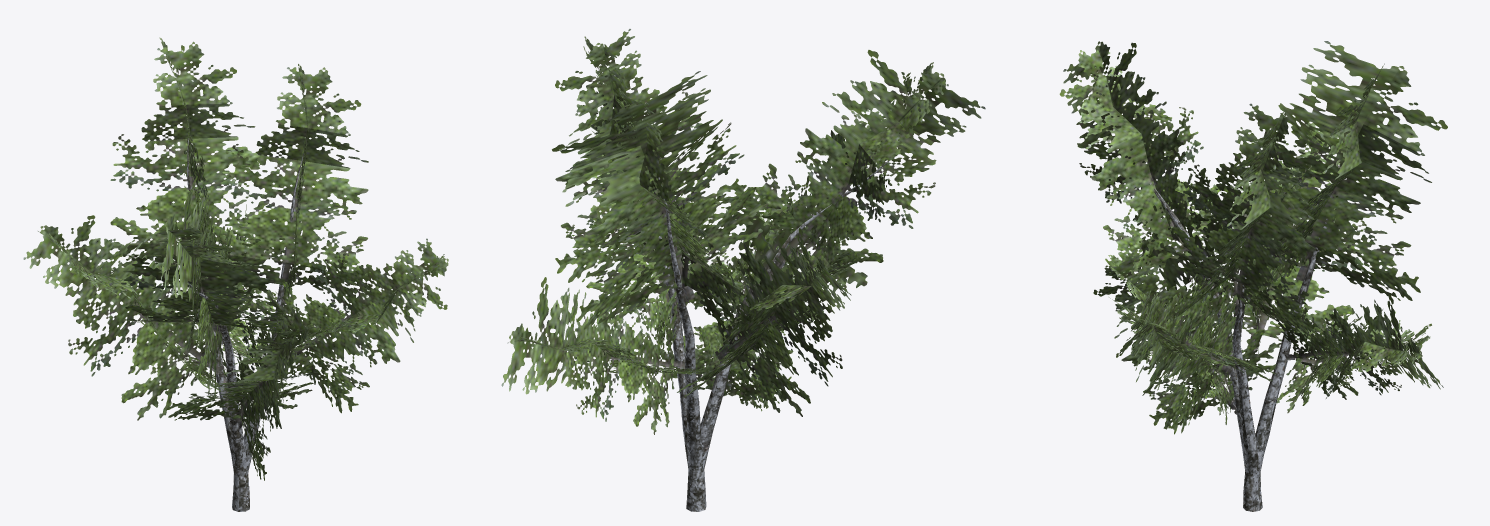
The model's file is SM_Tree_06.fbx.
3 views of the same model, side by side, from view 1: azimuth 30°, elevation 25°; view 2: azimuth 150°, elevation 25°; view 3: azimuth 270°, elevation 25° (orthographic). The views are drawn at different scales.
Parts seen in each view (by area): view 1: SM_Tree_06; view 2: SM_Tree_06; view 3: SM_Tree_06.
Boxes of the visible parts, <box> form: SM_Tree_06: <box>23,37,448,511</box>; SM_Tree_06: <box>501,29,985,511</box>; SM_Tree_06: <box>1059,41,1447,511</box>.
Size of the model in its own units: 1381 by 1447 by 1649.
2 materials, 2 textured.
